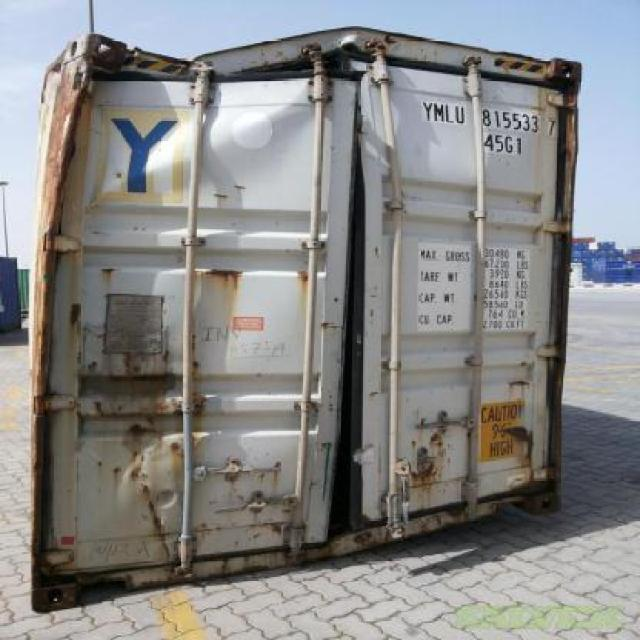ISO: (484, 131, 523, 155)
container_number: (426, 101, 556, 132)
